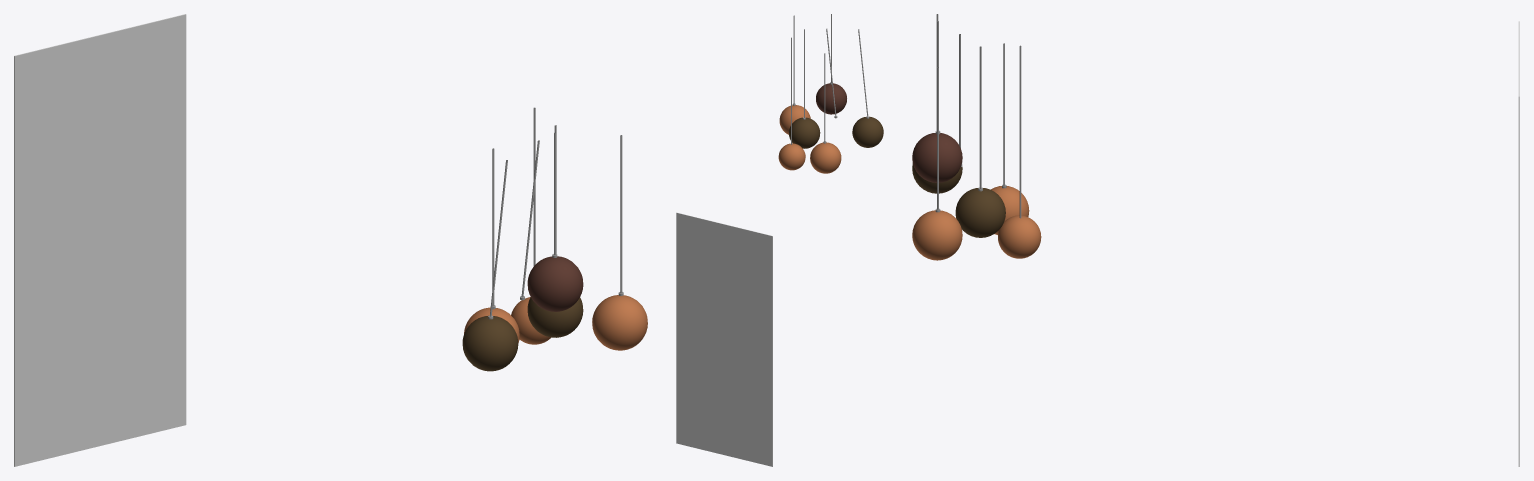
Rendered from luster.glb.
3 views of the same model, side by side, from view 1: azimuth 30°, elevation 25°; view 2: azimuth 150°, elevation 25°; view 3: azimuth 270°, elevation 25° (orthographic). The views are drawn at different scales.
Visible parts, largest first — view 1: Box019, Sphere002, Sphere001, Sphere004, Sphere016, Sphere020; view 2: Box019, Sphere006, Sphere004, Sphere001, Sphere016, Sphere020, Sphere002; view 3: Sphere002, Sphere016, Sphere001, Sphere020, Box019, Sphere006.
Boxes of the visible parts, bbox=[...] form: Box019: bbox=[14, 14, 186, 466]; Sphere002: bbox=[592, 295, 647, 350]; Sphere001: bbox=[527, 256, 583, 311]; Sphere004: bbox=[462, 315, 518, 371]; Sphere016: bbox=[527, 297, 583, 337]; Sphere020: bbox=[511, 297, 551, 344]; Box019: bbox=[676, 212, 772, 466]; Sphere006: bbox=[810, 142, 841, 173]; Sphere004: bbox=[852, 116, 883, 147]; Sphere001: bbox=[816, 83, 846, 114]; Sphere016: bbox=[789, 117, 820, 148]; Sphere020: bbox=[778, 143, 805, 170]; Sphere002: bbox=[779, 105, 810, 134]; Sphere002: bbox=[912, 210, 962, 260]; Sphere016: bbox=[955, 188, 1005, 237]; Sphere001: bbox=[912, 133, 962, 182]; Sphere020: bbox=[998, 215, 1041, 258]; Box019: bbox=[1518, 21, 1519, 466]; Sphere006: bbox=[991, 186, 1029, 234].
Bounding box in the file's own units: 1.43 × 2.3 × 2.72.
